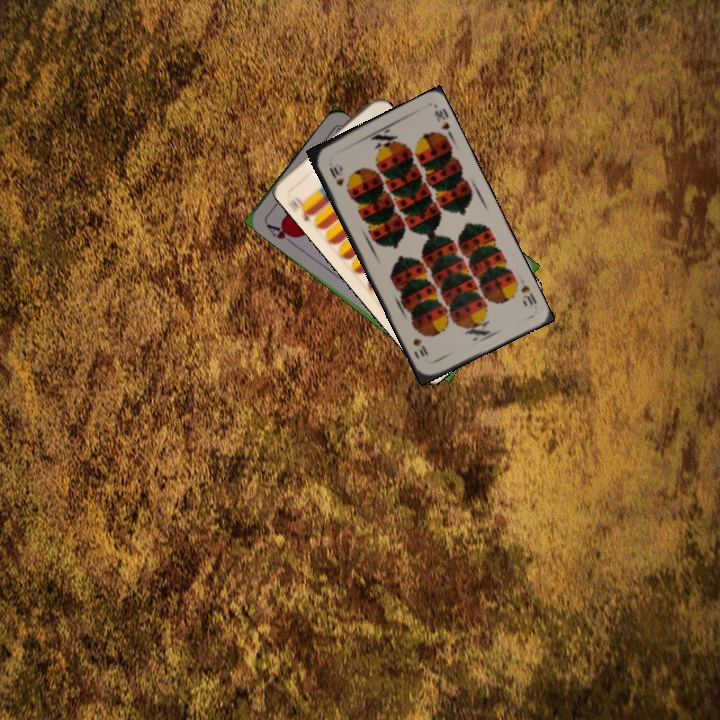E10: (288, 192, 318, 224)
HA: (262, 218, 300, 247)
S10: (517, 281, 539, 309), (325, 162, 346, 188)
